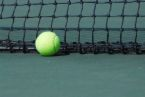tennis ball: (34, 31, 60, 56)
